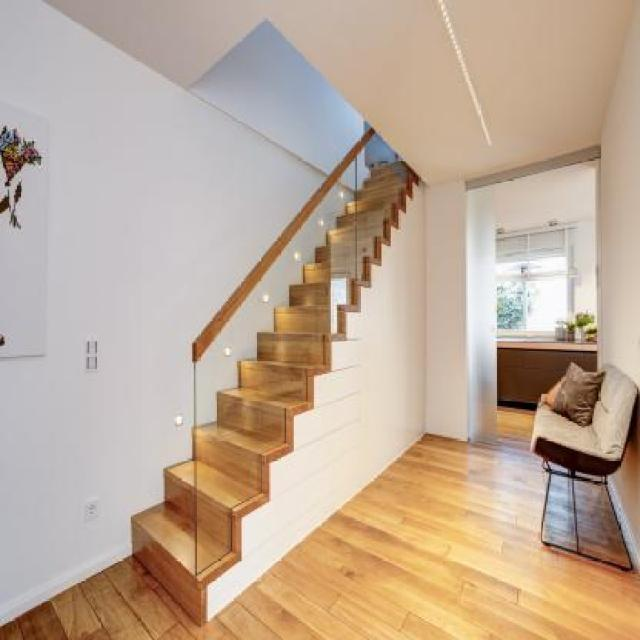stair: (106, 132, 428, 603)
